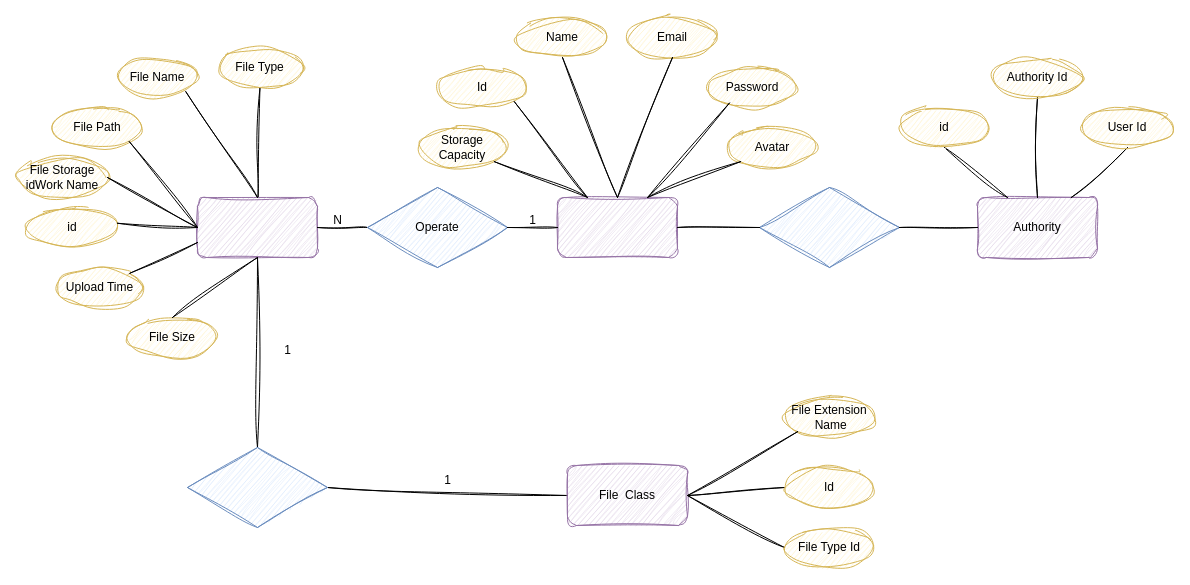
Image size: 1190x585. Some labels were removed from this diagram. The shapes that lost their labels are listed below. From the top down, each one's box as (x1, y1, x2, y2) in pixels, then its label:
(196, 196, 318, 258): File
(556, 196, 678, 258): User
(758, 186, 900, 268): Judge
(186, 446, 328, 528): Contain
